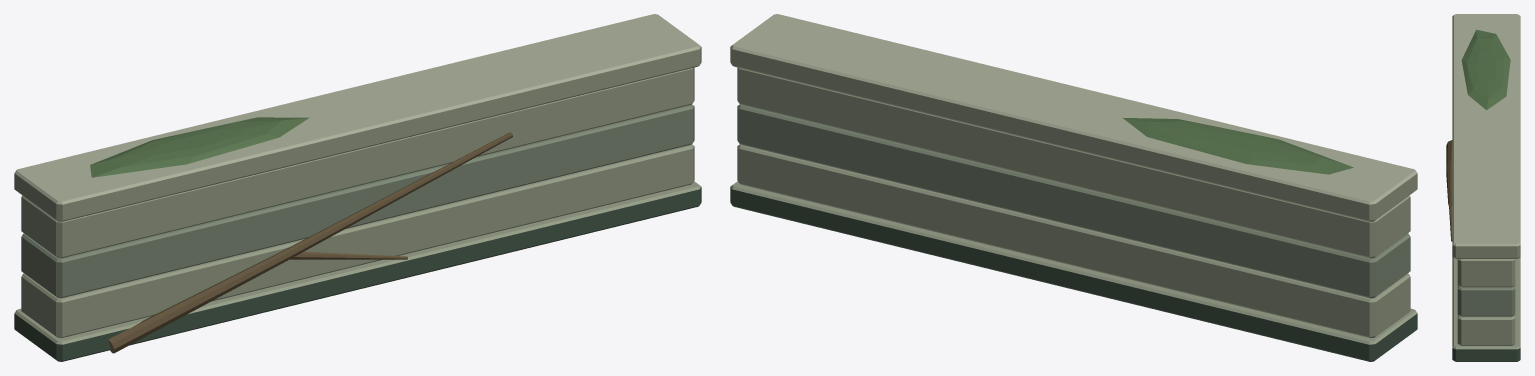
File: wall-long.glb
The picture shows the model from 3 angles, left to right: view 1: azimuth 30°, elevation 25°; view 2: azimuth 150°, elevation 25°; view 3: azimuth 270°, elevation 25°; orthographic projection. The views are drawn at different scales.
Parts seen in each view (by area): view 1: wall-long__body; view 2: wall-long__body; view 3: wall-long__body.
Part boxes in pixels (x1,y1,x2,y2): wall-long__body: (14, 14, 701, 361); wall-long__body: (730, 14, 1417, 361); wall-long__body: (1446, 14, 1520, 361).
Size of the model in its own units: 4 by 0.9984 by 0.545.
